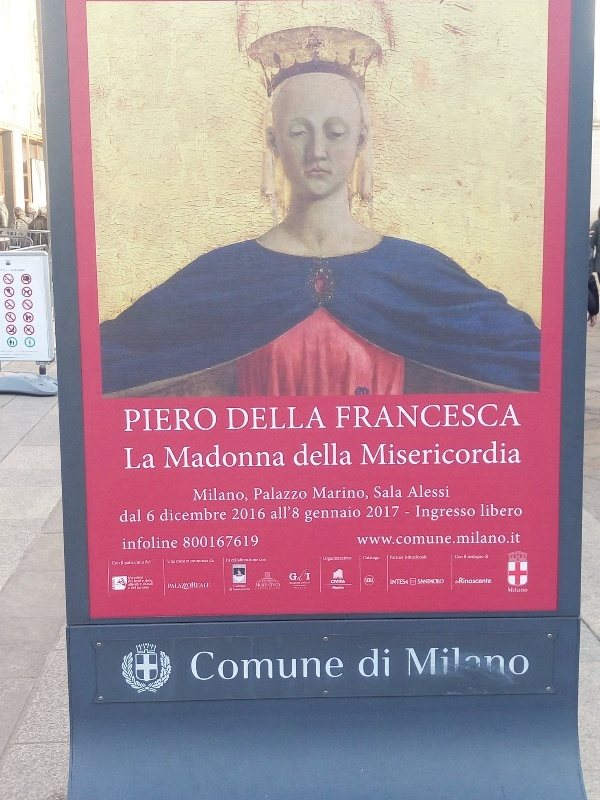text: (369, 647, 384, 682), (193, 650, 208, 683), (209, 650, 224, 683), (225, 650, 240, 683), (241, 650, 256, 683), (257, 650, 272, 683), (273, 650, 288, 683), (289, 650, 304, 683), (305, 650, 320, 683), (321, 650, 336, 683), (513, 648, 529, 677), (337, 403, 352, 432), (353, 403, 368, 432), (369, 403, 384, 432), (385, 403, 400, 432), (401, 403, 416, 432), (417, 403, 432, 432), (433, 403, 448, 432), (449, 403, 464, 432), (465, 403, 480, 432), (481, 403, 496, 432), (497, 403, 512, 432), (417, 648, 432, 677), (433, 648, 448, 677), (449, 648, 464, 677), (465, 648, 480, 677), (481, 648, 496, 677), (497, 648, 512, 677), (177, 442, 192, 470), (193, 442, 208, 470), (209, 442, 224, 470), (225, 442, 240, 470), (241, 442, 256, 470), (257, 442, 272, 470), (369, 440, 384, 468), (385, 440, 400, 468), (401, 440, 416, 468), (417, 440, 432, 468), (433, 440, 448, 468), (449, 440, 464, 468), (465, 440, 480, 468), (481, 440, 496, 468), (497, 440, 512, 468), (273, 442, 287, 470), (129, 408, 144, 433), (145, 408, 160, 433), (161, 408, 176, 433), (177, 408, 192, 433), (193, 408, 208, 433), (129, 445, 144, 470), (305, 442, 320, 467), (321, 442, 336, 467), (337, 442, 352, 467), (241, 407, 256, 431), (257, 407, 272, 431), (273, 407, 288, 431), (289, 407, 304, 431), (305, 407, 320, 431), (164, 442, 176, 470), (405, 648, 416, 677), (227, 407, 240, 431), (145, 445, 157, 470), (305, 504, 320, 524), (321, 504, 336, 524), (337, 504, 352, 524), (513, 403, 522, 432), (209, 486, 224, 503), (225, 486, 240, 503), (417, 505, 432, 522), (433, 505, 448, 522), (449, 505, 464, 522), (513, 440, 522, 468), (361, 647, 368, 682), (257, 485, 272, 501), (273, 485, 288, 501), (289, 485, 304, 501), (273, 505, 288, 521), (353, 486, 369, 501), (369, 504, 384, 520), (385, 504, 400, 520), (194, 486, 208, 503), (337, 650, 344, 683), (177, 507, 192, 522), (193, 507, 208, 522), (209, 507, 224, 522), (321, 486, 336, 501), (337, 486, 352, 501), (385, 485, 400, 500), (417, 484, 432, 499), (433, 484, 448, 499), (369, 531, 384, 546), (385, 531, 400, 546), (401, 531, 416, 546), (417, 531, 432, 546), (433, 531, 448, 546), (449, 531, 464, 546), (465, 531, 480, 546), (481, 531, 496, 546), (497, 531, 512, 546), (241, 507, 256, 521), (193, 535, 208, 549), (209, 535, 224, 549), (225, 535, 240, 549), (241, 535, 256, 549), (129, 508, 142, 524), (209, 408, 217, 433), (361, 440, 368, 468), (481, 504, 496, 517), (497, 504, 512, 517), (129, 537, 144, 550), (145, 537, 160, 550), (161, 537, 176, 550), (465, 505, 476, 522), (164, 507, 176, 522), (385, 647, 390, 682), (321, 407, 328, 431), (357, 531, 368, 546), (353, 504, 361, 524), (293, 506, 304, 520), (149, 509, 160, 522), (375, 485, 384, 500), (120, 508, 128, 524), (257, 507, 266, 521), (306, 572, 320, 581), (465, 577, 480, 585), (513, 531, 521, 546), (241, 486, 248, 503), (513, 504, 522, 517), (184, 535, 192, 549), (290, 573, 304, 581), (313, 486, 320, 501), (177, 583, 192, 590), (513, 587, 528, 594), (124, 408, 128, 433), (124, 445, 128, 470), (233, 507, 240, 521), (337, 556, 353, 562), (129, 560, 144, 566), (145, 559, 160, 565), (193, 582, 208, 588), (241, 557, 256, 563), (481, 577, 492, 585), (418, 579, 432, 585), (323, 556, 336, 562), (369, 555, 380, 562), (405, 554, 416, 561), (417, 554, 428, 561), (301, 442, 304, 467), (145, 578, 160, 583), (468, 554, 480, 560), (210, 558, 224, 563), (226, 558, 240, 563), (433, 579, 444, 585), (485, 554, 496, 560), (123, 537, 128, 550), (193, 560, 209, 564), (129, 576, 144, 580), (129, 583, 144, 587), (177, 560, 192, 564), (390, 555, 400, 561), (231, 557, 240, 563), (337, 579, 346, 585), (391, 579, 400, 585), (455, 554, 464, 560), (131, 586, 144, 590), (169, 583, 176, 590), (260, 558, 272, 562), (401, 579, 409, 585), (1, 269, 16, 272), (413, 484, 416, 499), (129, 580, 144, 583), (405, 511, 416, 515), (229, 587, 240, 591), (257, 583, 268, 587), (134, 579, 144, 583), (168, 559, 176, 564), (241, 588, 251, 592), (459, 577, 464, 585), (113, 561, 120, 566), (254, 485, 256, 501), (305, 485, 307, 501), (289, 505, 291, 521), (337, 586, 345, 590), (456, 580, 464, 584), (1, 354, 16, 356), (225, 507, 227, 522), (401, 485, 403, 500), (122, 560, 128, 565), (331, 579, 336, 585), (369, 578, 374, 584), (335, 403, 336, 432), (2, 351, 16, 353), (18, 351, 32, 353), (17, 354, 31, 356), (137, 586, 144, 590), (257, 535, 259, 549), (233, 588, 240, 592), (273, 583, 280, 587), (290, 582, 304, 584), (364, 555, 368, 562), (508, 587, 512, 594), (353, 442, 354, 467), (17, 269, 25, 272), (145, 583, 153, 586), (234, 584, 240, 588), (145, 586, 150, 590), (241, 584, 246, 588), (294, 585, 304, 587), (294, 587, 304, 589), (125, 560, 128, 566), (401, 555, 404, 561), (367, 504, 368, 520), (268, 583, 272, 587), (11, 269, 16, 272), (449, 484, 450, 499), (305, 582, 310, 585), (177, 537, 178, 550), (140, 583, 144, 586), (209, 582, 211, 588), (333, 586, 336, 590), (366, 578, 368, 584), (465, 554, 467, 560), (481, 554, 483, 560), (33, 351, 38, 353), (301, 582, 304, 585), (142, 580, 144, 583), (129, 587, 131, 590), (257, 557, 258, 563), (301, 585, 304, 587), (14, 354, 16, 356), (191, 560, 192, 564), (305, 585, 306, 587), (305, 587, 306, 589)
